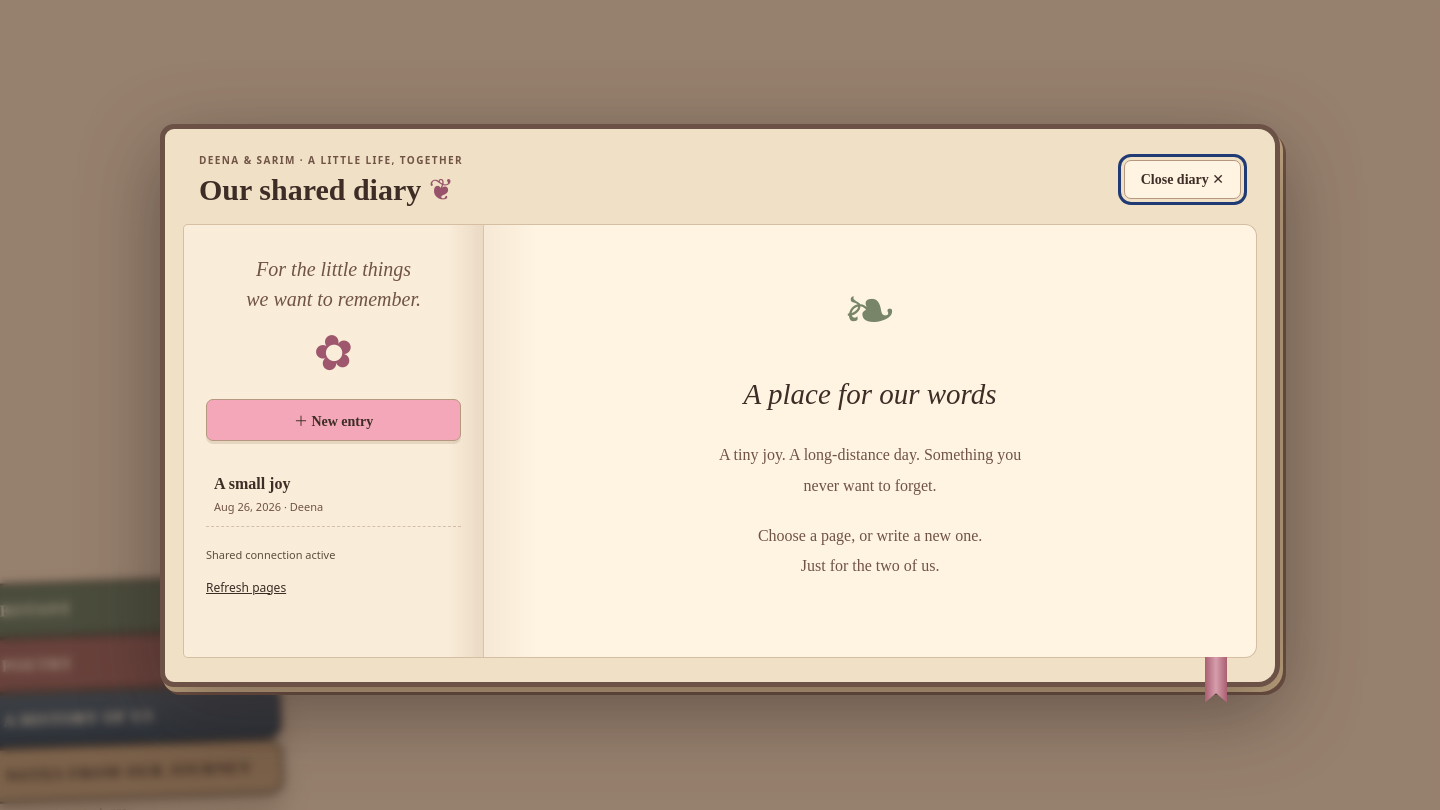
Test: interactive bookshelf and diary › requires deletion confirmation and leaves the entry intact when kept
expect the button "＋ New entry" is enabled: met, box [206,398,461,440]
Click the button "A small joy Aug 26, 2026 · Deena": x=334, y=494 [206,460,461,527]
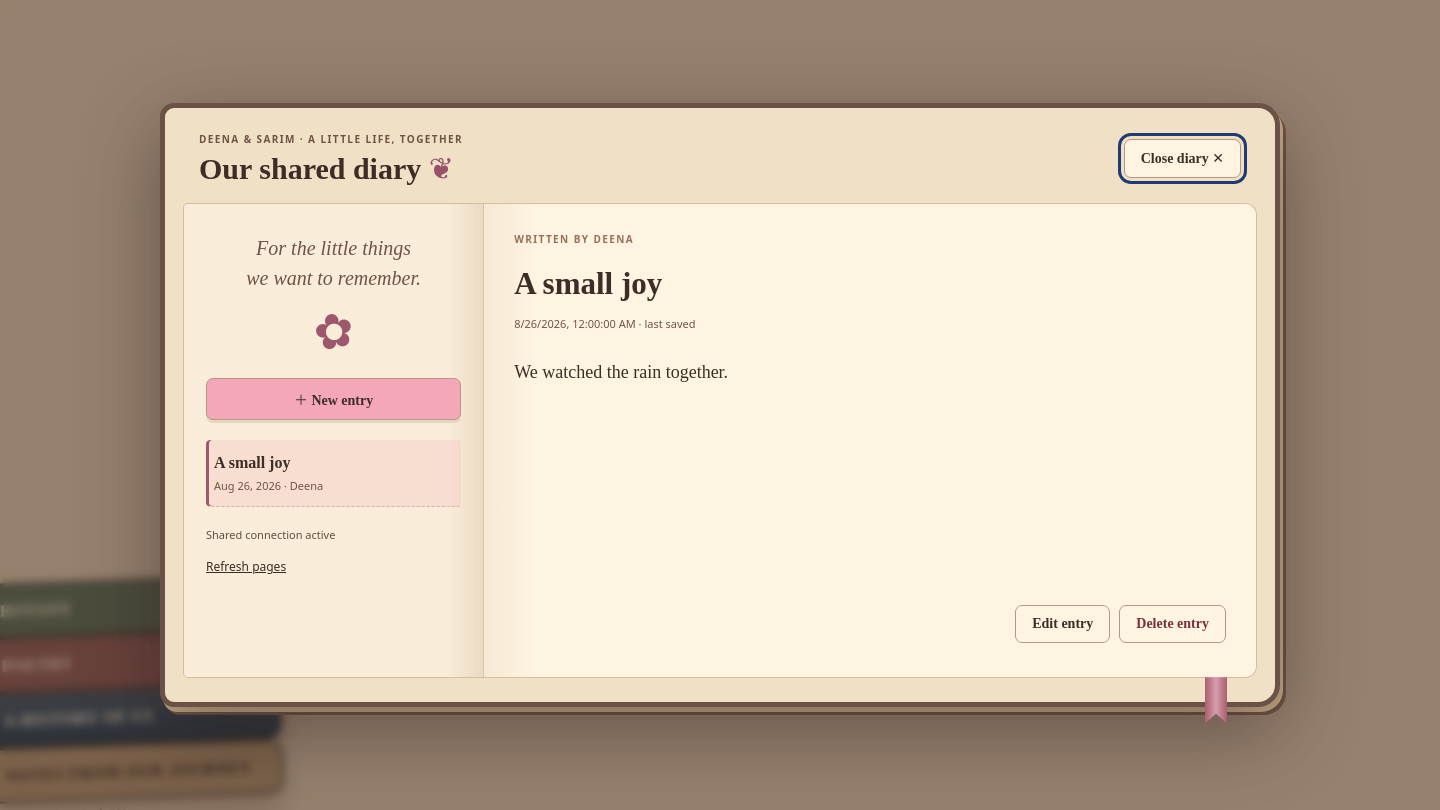
Click the button "Delete entry": x=1173, y=624 [1119,605,1226,643]
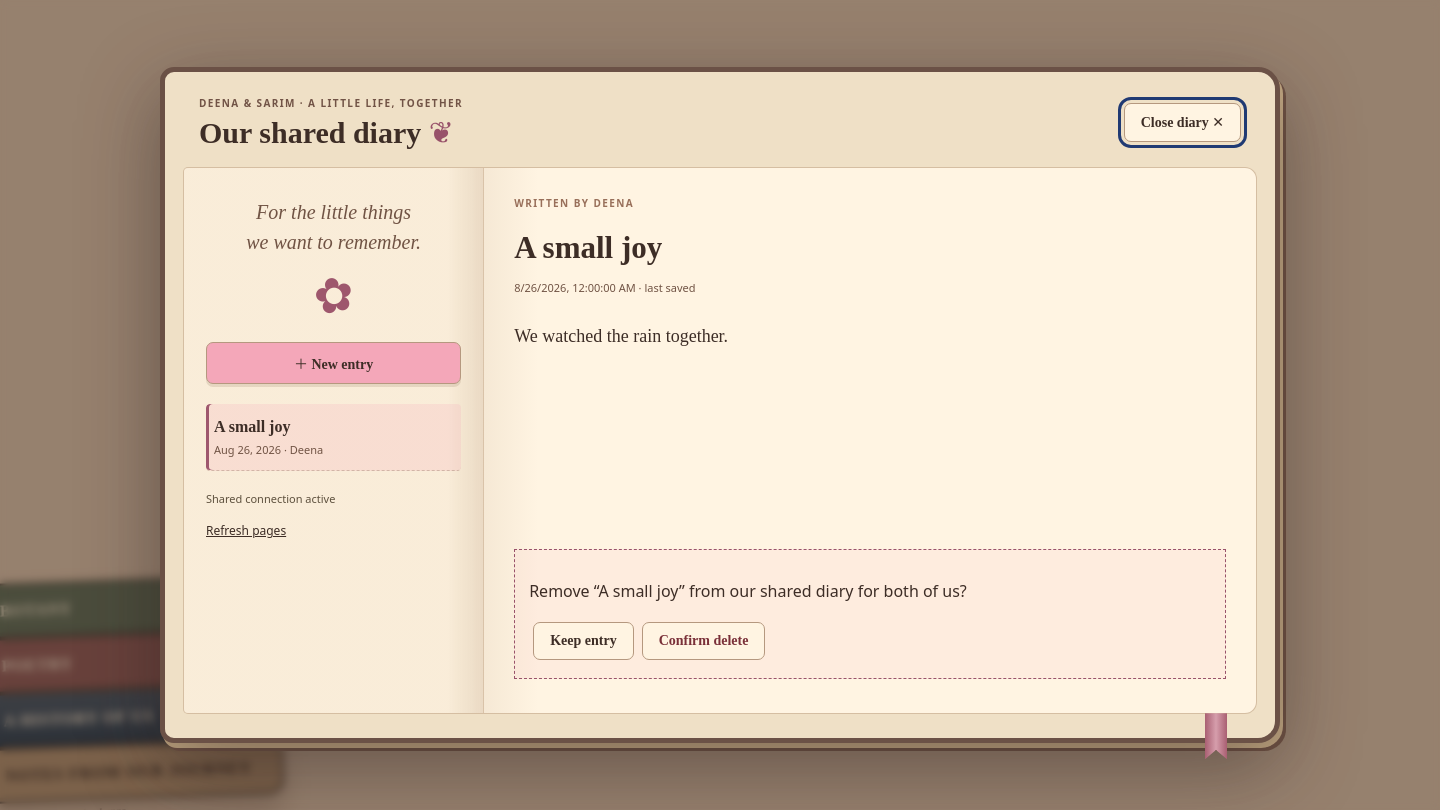
Click the button "Keep entry": x=583, y=641 [533,622,634,660]
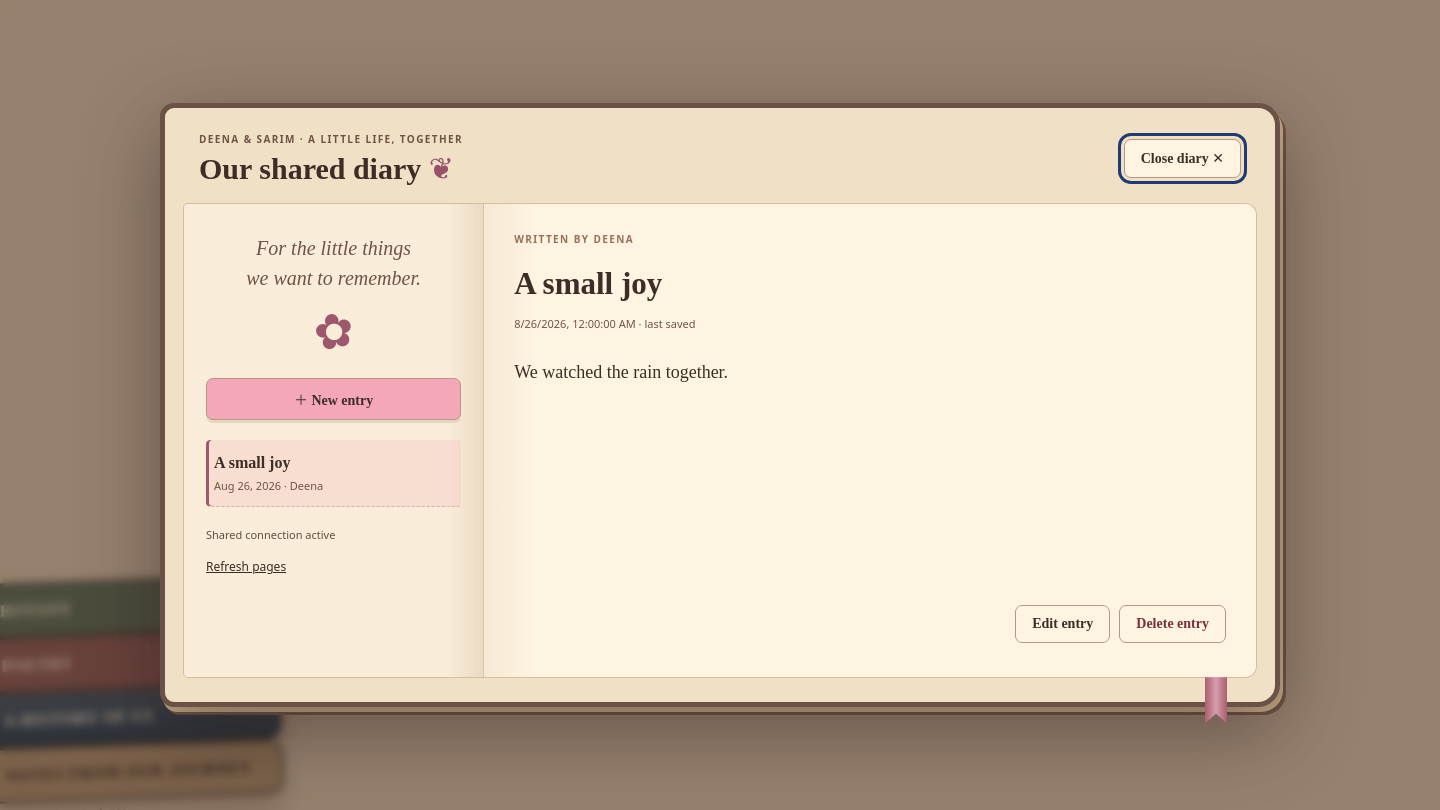
Click the button "Delete entry": x=1173, y=624 [1119,605,1226,643]
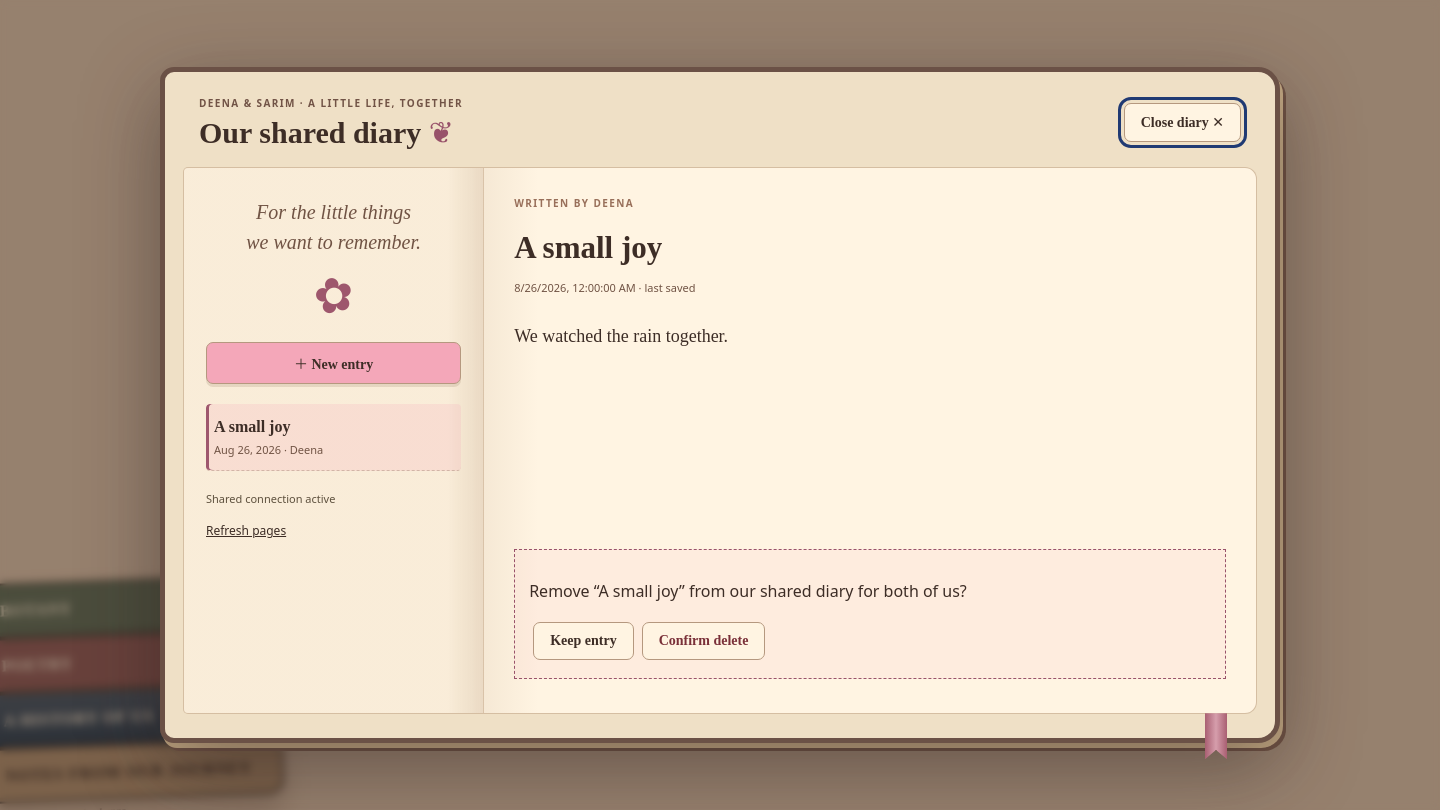
Click the button "Confirm delete": x=704, y=641 [642,622,765,660]
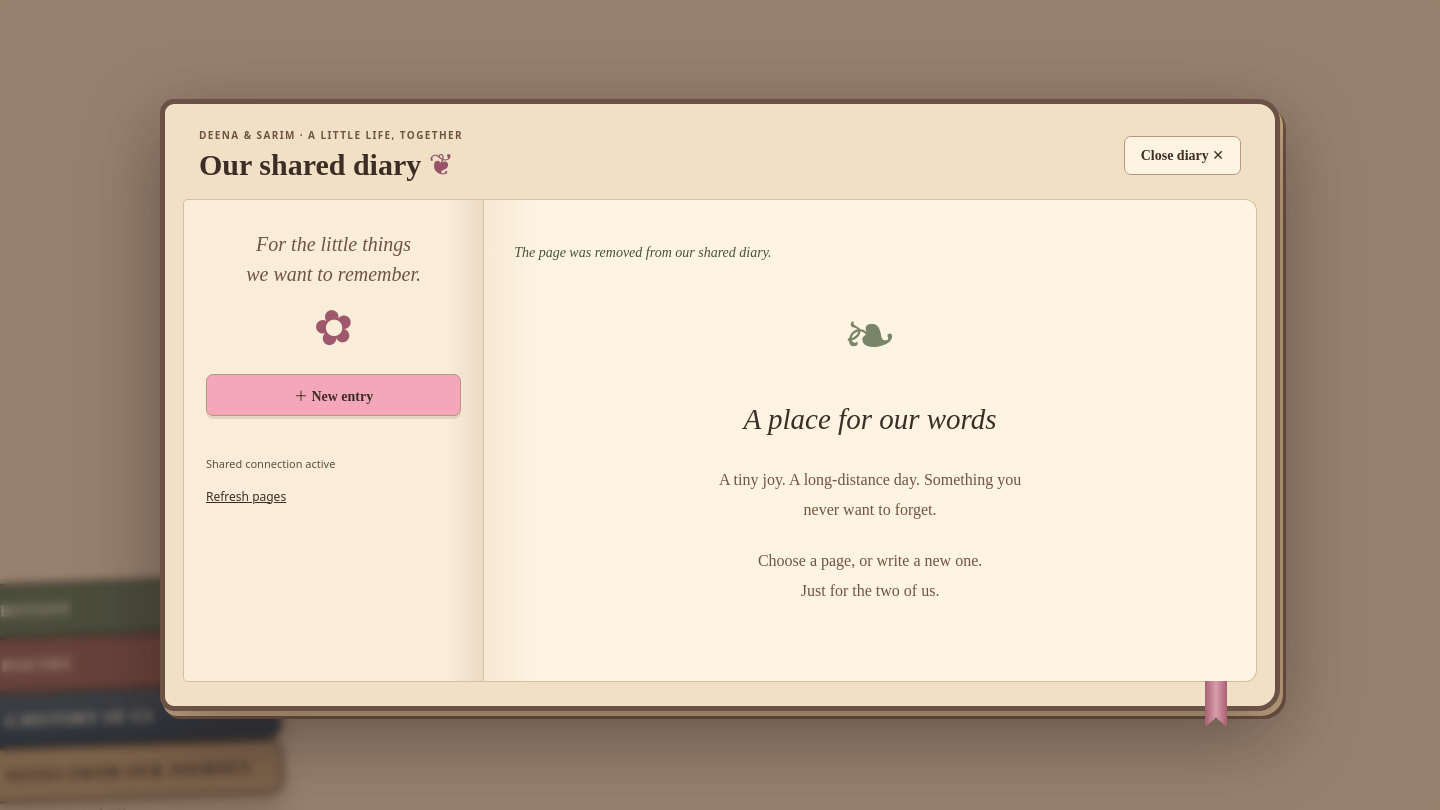
expect the text "The page was removed from our shared diary." is shown: met, box [514,245,772,260]
